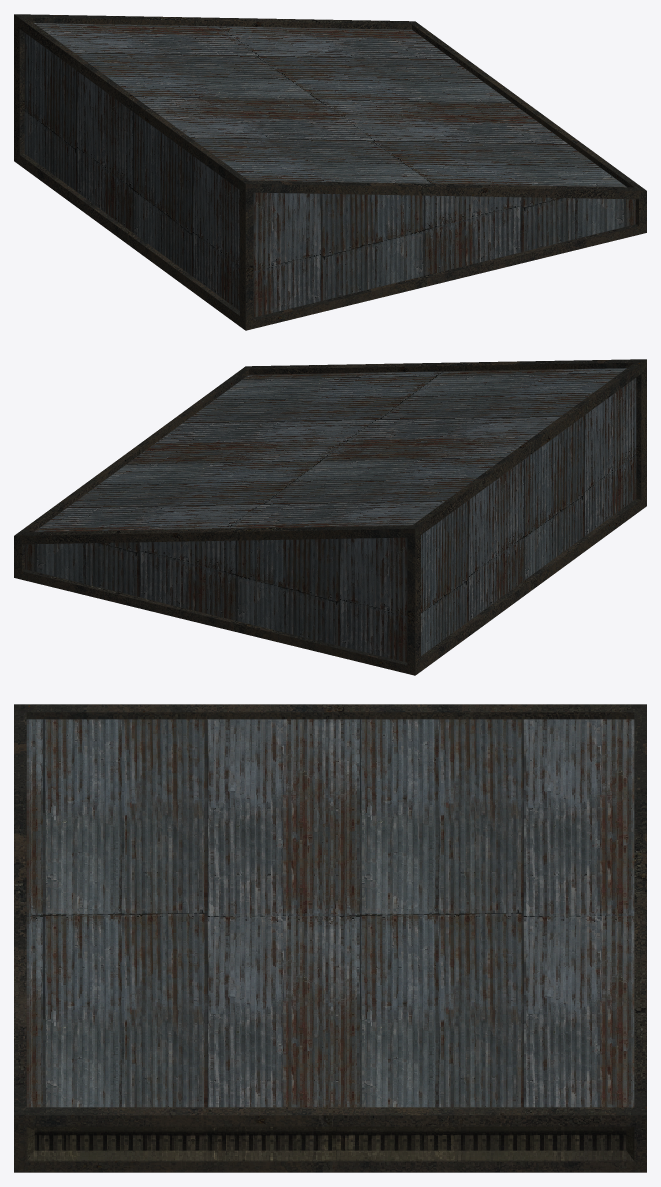
Rendered from roof_mh_2.glb.
The picture shows the model from 3 angles, top to bottom: view 1: azimuth 30°, elevation 25°; view 2: azimuth 150°, elevation 25°; view 3: azimuth 270°, elevation 25°; orthographic projection. The views are drawn at different scales.
Visible parts, largest first — view 1: roof_mh_2; view 2: roof_mh_2; view 3: roof_mh_2.
Boxes of the visible parts, box(x1,y1,x2,y2) form: roof_mh_2: box(14, 14, 646, 330); roof_mh_2: box(14, 359, 646, 675); roof_mh_2: box(14, 704, 646, 1172).
Size of the model in its own units: 4 by 1.4 by 4.
Materials: 5 (5 with a texture image).
